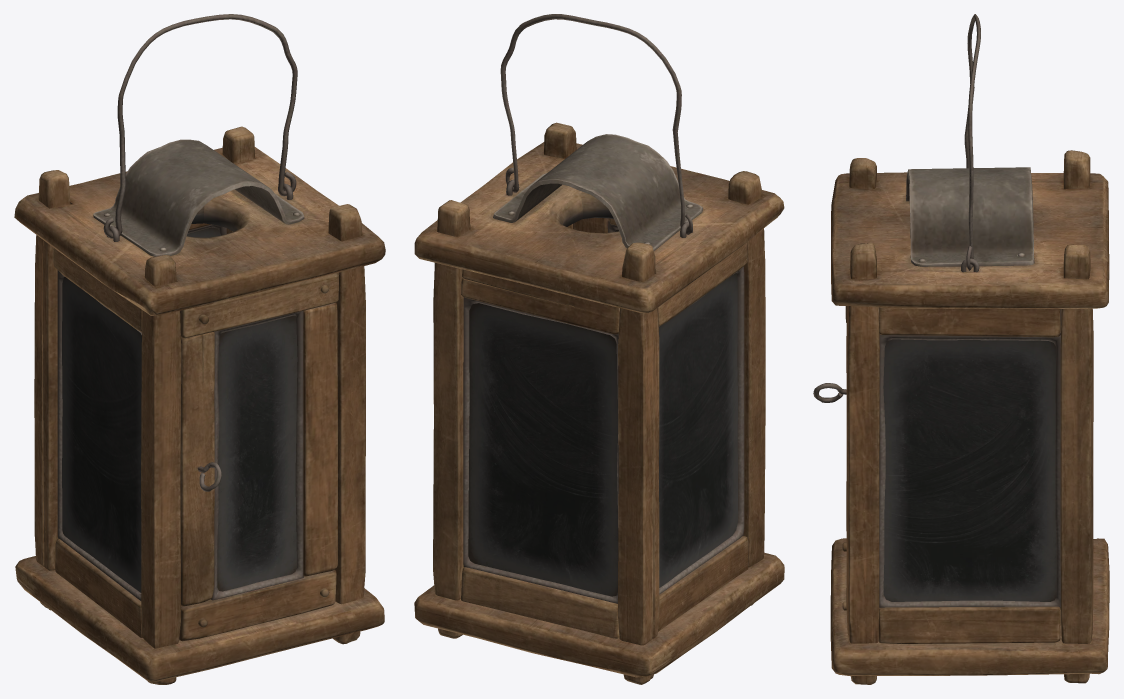
Rendered from wooden_lantern_01_2k_web.glb.
The picture shows the model from 3 angles, left to right: view 1: azimuth 30°, elevation 25°; view 2: azimuth 150°, elevation 25°; view 3: azimuth 270°, elevation 25°; orthographic projection.
Visible parts, largest first — view 1: wooden_lantern_01, wooden_lantern_01_door, wooden_lantern_01_handle; view 2: wooden_lantern_01, wooden_lantern_01_handle, wooden_lantern_01_door; view 3: wooden_lantern_01, wooden_lantern_01_handle, wooden_lantern_01_door.
Part boxes in pixels (x1,y1,x2,y2): wooden_lantern_01: (14, 126, 385, 684); wooden_lantern_01_door: (179, 272, 339, 641); wooden_lantern_01_handle: (103, 14, 297, 238); wooden_lantern_01: (414, 122, 784, 684); wooden_lantern_01_handle: (500, 14, 692, 234); wooden_lantern_01_door: (573, 217, 618, 233); wooden_lantern_01: (830, 150, 1109, 684); wooden_lantern_01_handle: (964, 14, 980, 270); wooden_lantern_01_door: (813, 306, 847, 610).
Size of the model in its own units: 0.2211 by 0.5301 by 0.2347.
Materials: 2 (2 with a texture image).
